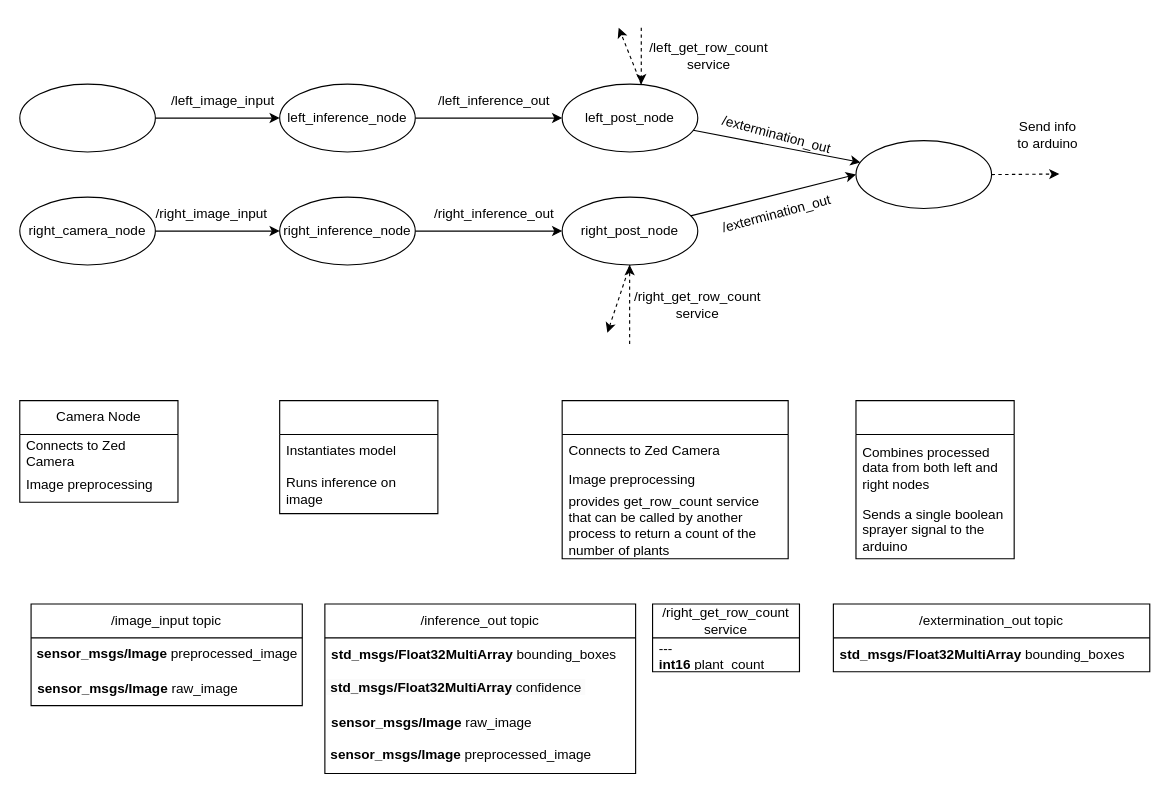
The diagram is 1170 pixels wide and 793 high, and some of its shapes have lost their labels. Each missing label, with the box of its shape:
Inference Node: (279, 399, 438, 514)
left_camera_node: (19, 83, 155, 152)
Post-Inference Node: (561, 399, 788, 559)
Proxy Node: (855, 399, 1014, 559)
proxy_node: (855, 140, 992, 208)
